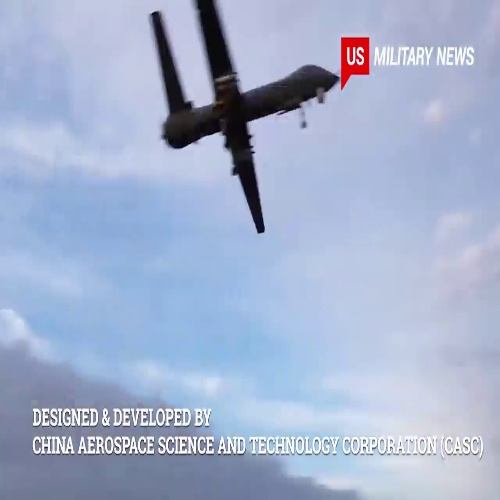uav: (143, 1, 338, 234)
